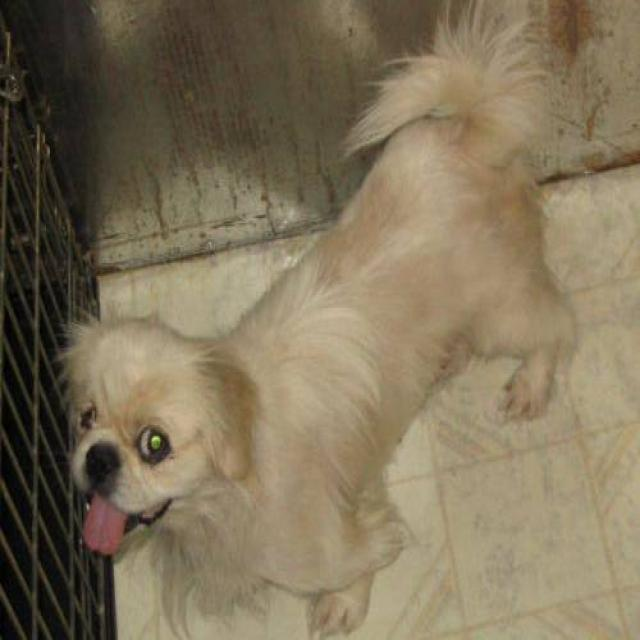dog: (56, 0, 578, 638)
